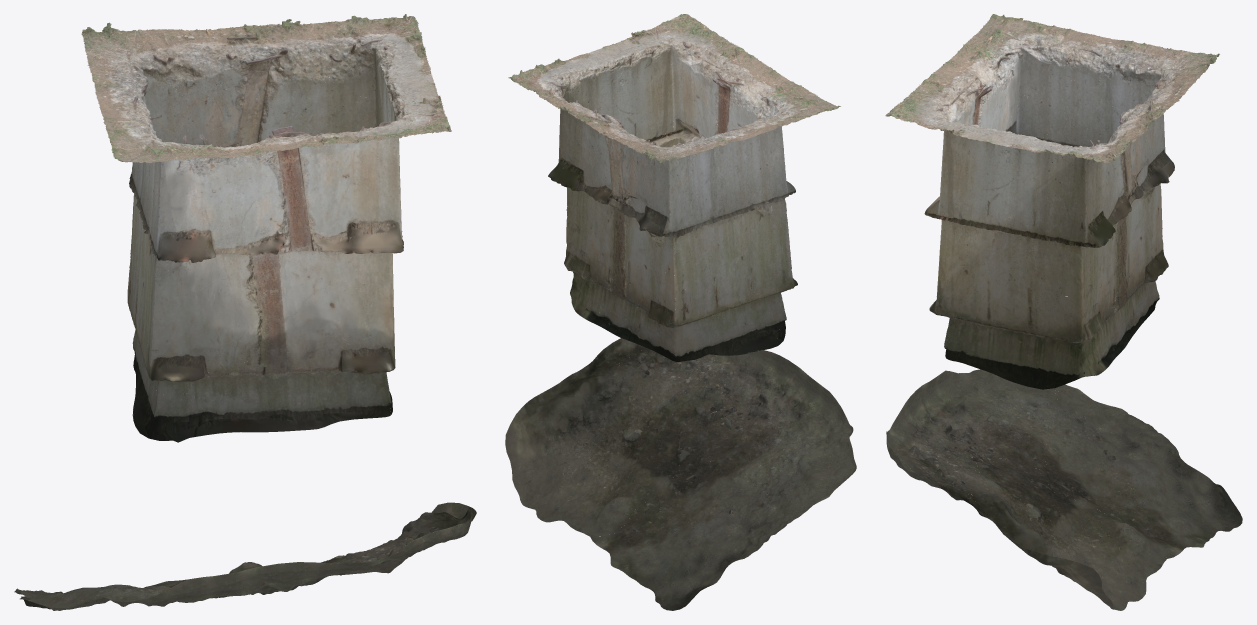
Rendered from sf-bunker-hatch-door-ce77ad.glb.
The picture shows the model from 3 angles, left to right: view 1: azimuth 30°, elevation 25°; view 2: azimuth 150°, elevation 25°; view 3: azimuth 270°, elevation 25°; orthographic projection. The views are drawn at different scales.
Parts seen in each view (by area): view 1: Model_material0_0, Model_material1_0, Model_material2_0; view 2: Model_material1_0, Model_material2_0, Model_material0_0; view 3: Model_material2_0, Model_material1_0, Model_material0_0.
Part boxes in pixels (bbox=[...]): Model_material0_0: bbox=[35, 22, 472, 610]; Model_material1_0: bbox=[129, 21, 476, 575]; Model_material2_0: bbox=[14, 14, 451, 609]; Model_material1_0: bbox=[505, 44, 795, 536]; Model_material2_0: bbox=[508, 14, 840, 610]; Model_material0_0: bbox=[549, 32, 856, 490]; Model_material2_0: bbox=[885, 14, 1242, 558]; Model_material1_0: bbox=[895, 52, 1168, 610]; Model_material0_0: bbox=[886, 18, 1219, 508].
Bounding box in the file's own units: 3.8 × 4.97 × 3.31.
3 materials, 3 textured.
